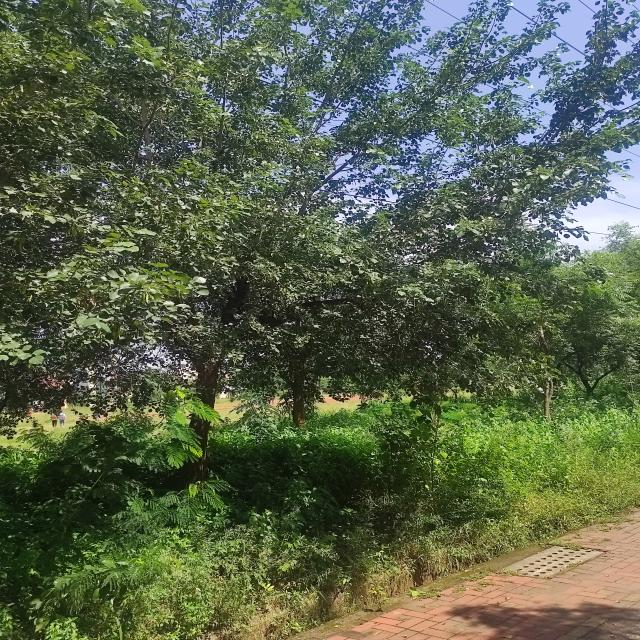Devakanchan tree: (66, 13, 588, 474)
